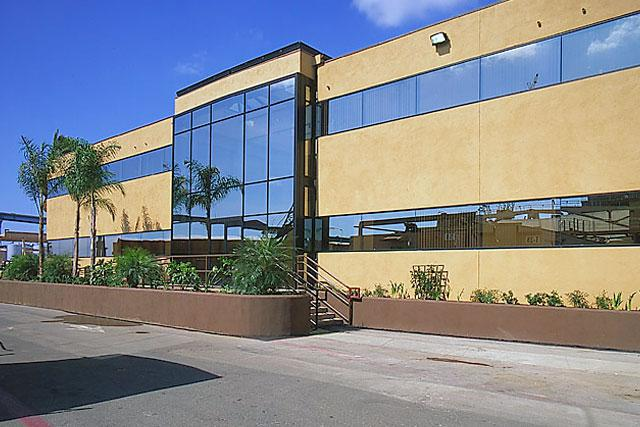affected: (28, 15, 640, 358)
